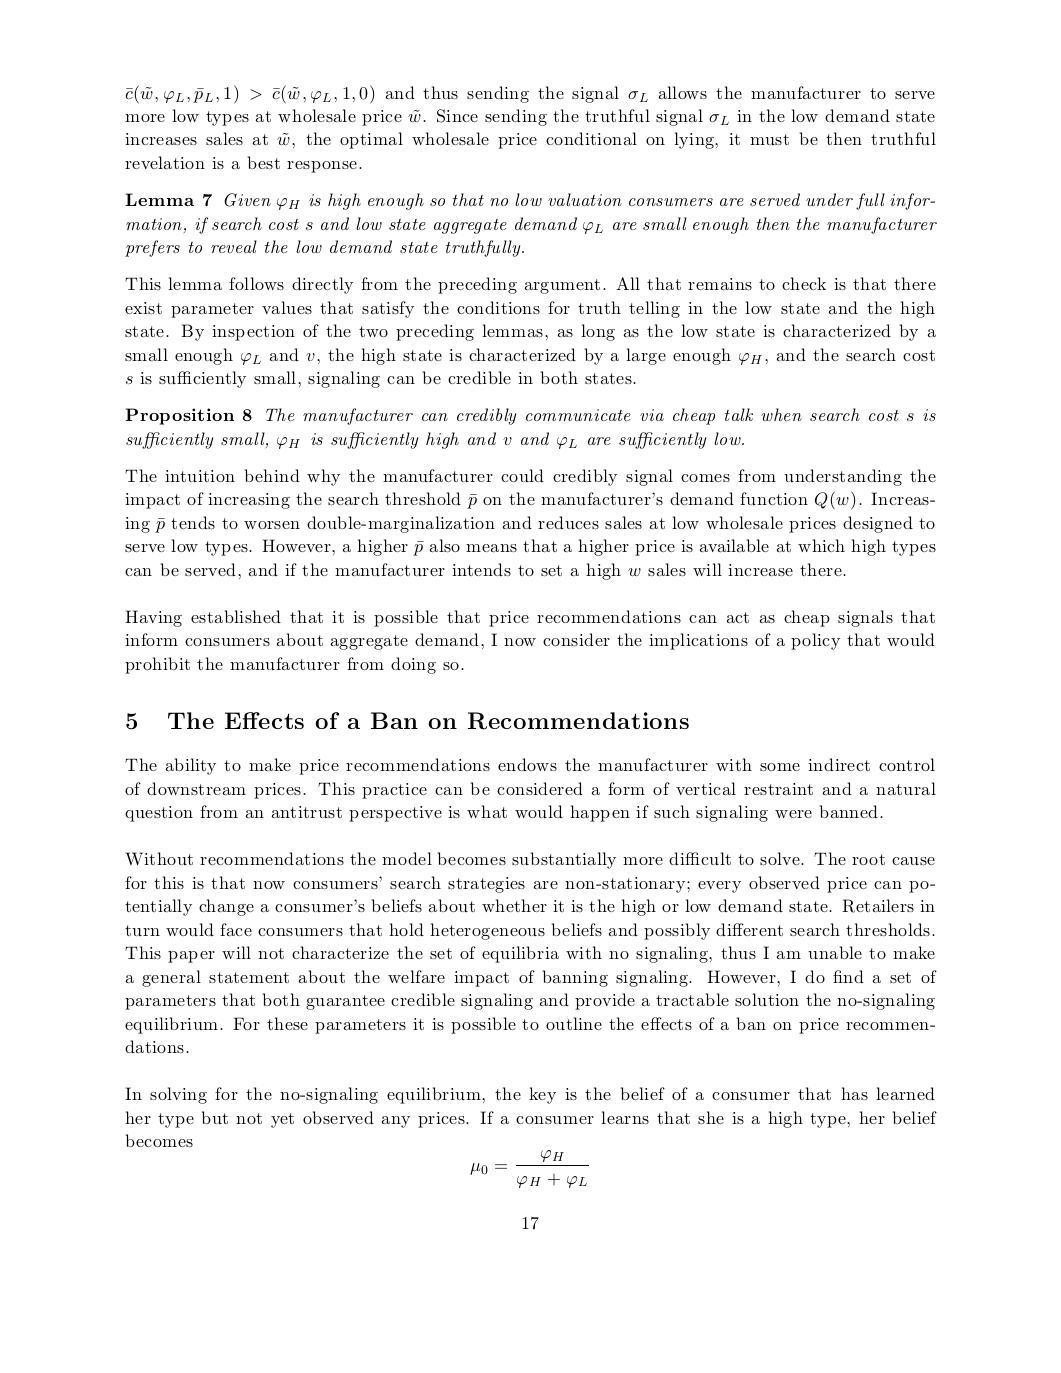formula: (470, 1149, 588, 1188)
